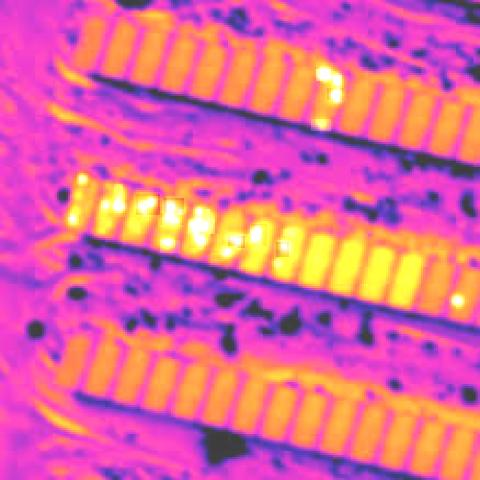fault: (136, 194, 160, 215), (188, 219, 215, 234), (252, 224, 267, 246), (189, 232, 208, 248), (164, 198, 184, 213), (75, 171, 92, 188), (160, 213, 184, 225), (447, 294, 465, 309), (160, 240, 180, 253), (195, 209, 210, 225), (311, 119, 331, 131), (228, 236, 245, 248), (327, 88, 344, 100), (219, 246, 237, 257), (276, 242, 289, 257), (270, 257, 285, 269), (316, 69, 331, 81), (116, 200, 127, 215), (114, 184, 123, 198), (66, 215, 81, 223), (98, 200, 110, 209), (333, 75, 342, 86), (283, 229, 296, 236)
